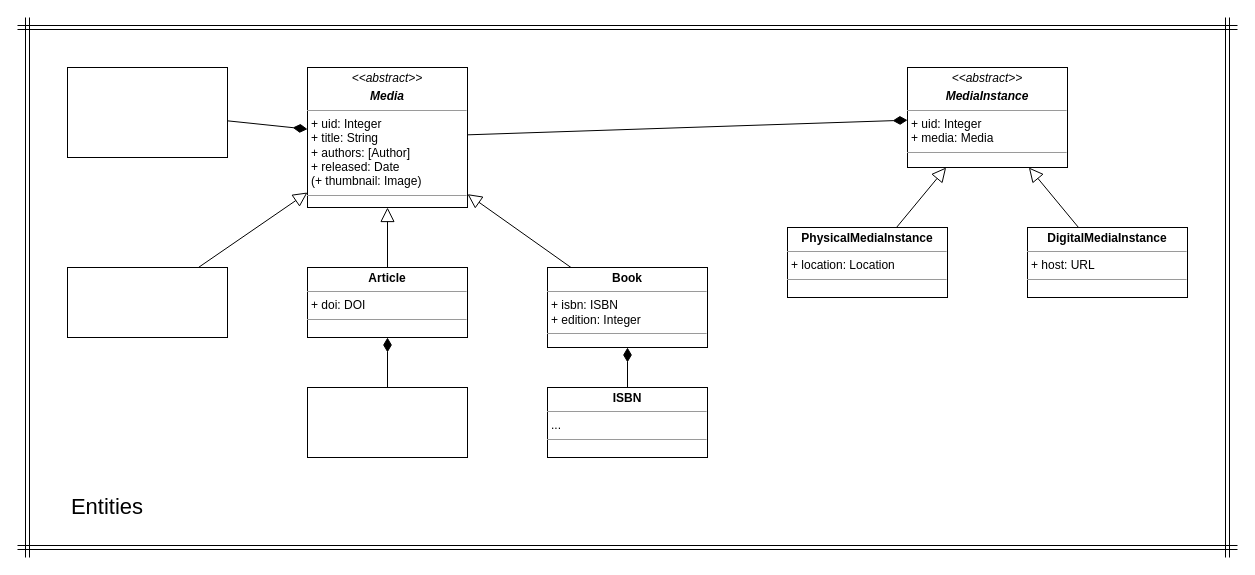
The diagram is 1255 pixels wide and 575 high, and some of its shapes have lost their labels. Each missing label, with the centre of its shape:
Author + uid: Integer + firstName: String + lastName: String: [147,112]
DOI ...: [387,422]
Video + length: Duration: [147,302]
